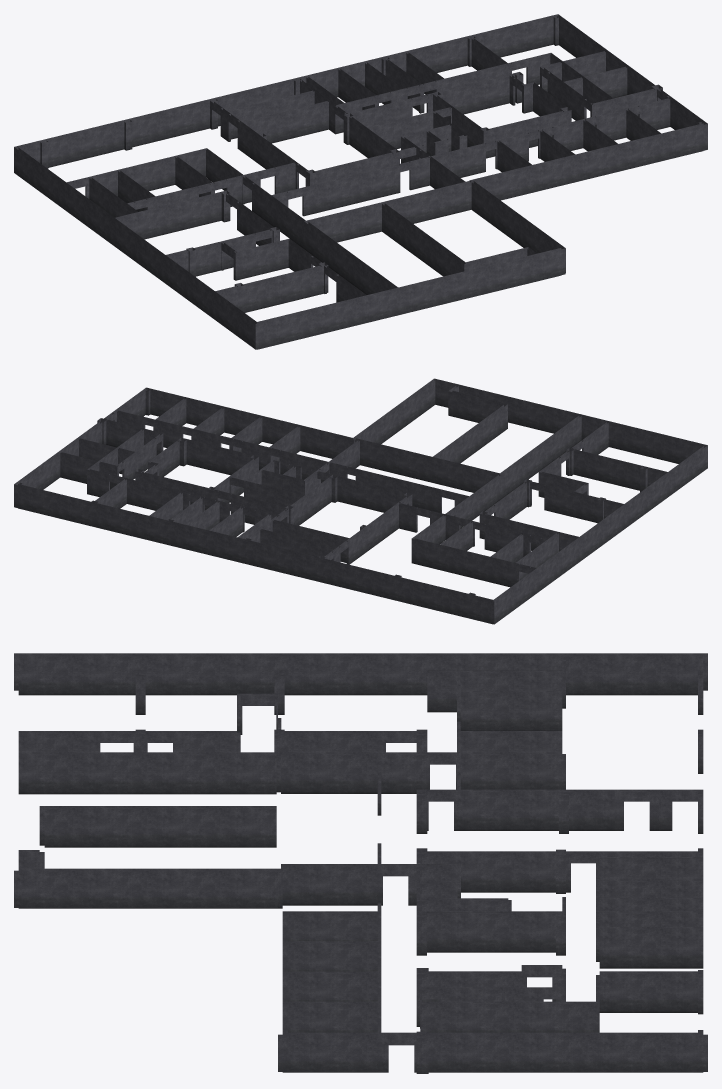
Rendered from b1f墙体.glb.
The picture shows the model from 3 angles, top to bottom: view 1: azimuth 30°, elevation 25°; view 2: azimuth 150°, elevation 25°; view 3: azimuth 270°, elevation 25°; orthographic projection. The views are drawn at different scales.
Parts seen in each view (by area): view 1: b1f墙体; view 2: b1f墙体; view 3: b1f墙体.
Part boxes in pixels (x1,y1,x2,y2): b1f墙体: [14, 14, 707, 349]; b1f墙体: [14, 378, 707, 624]; b1f墙体: [14, 653, 707, 1073].
Bounding box in the file's own units: 6171 × 300 × 4722.
1 material, 1 textured.
